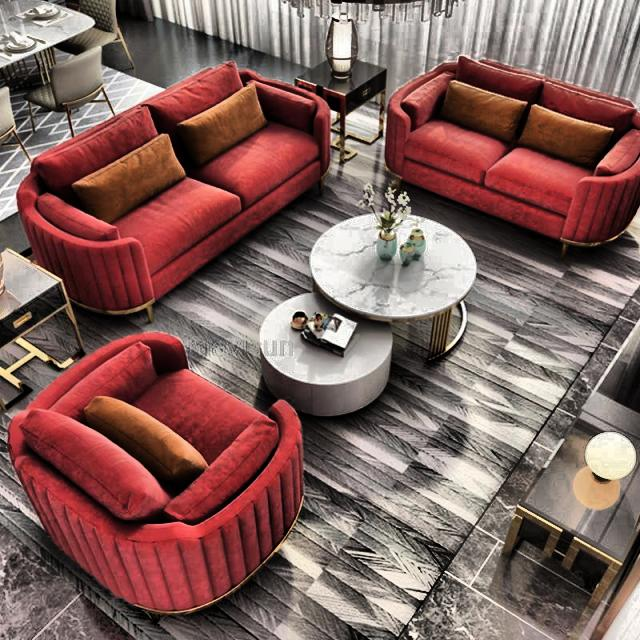sofa: (6, 330, 305, 620), (15, 59, 331, 323), (383, 55, 639, 259)
